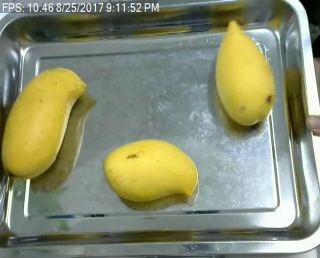Mango: (0, 67, 88, 179), (214, 19, 272, 129), (101, 139, 201, 202)
